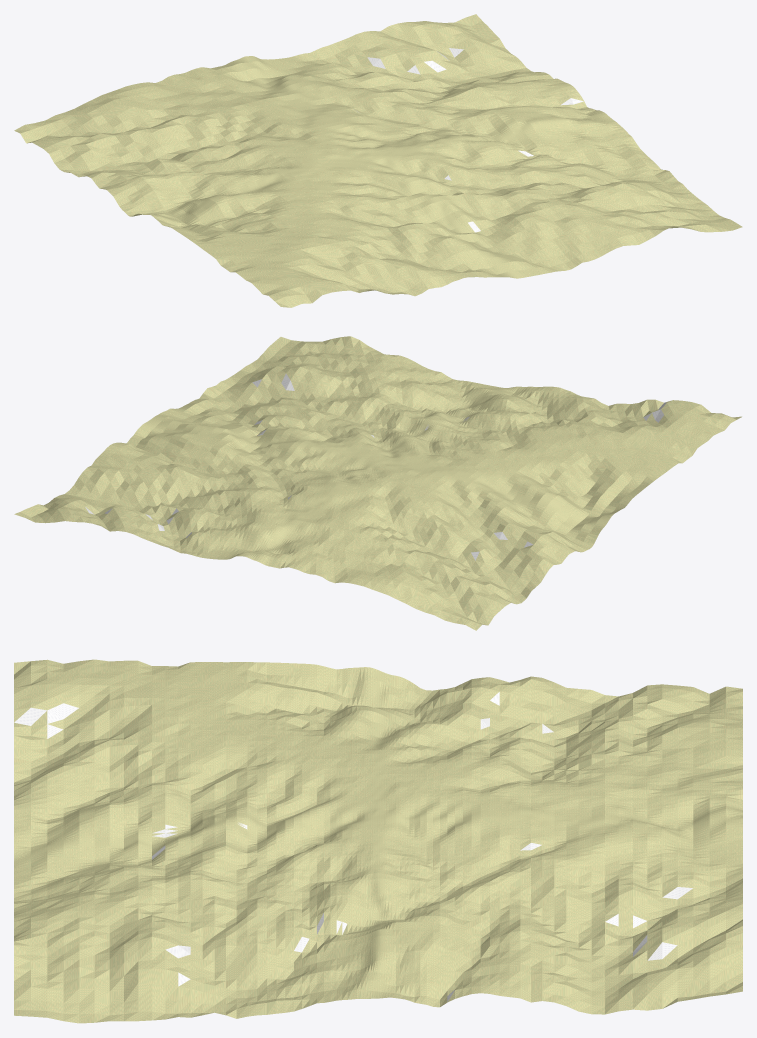
The model's file is terreno_canolo.obj.
3 views of the same model, one above another, from view 1: azimuth 30°, elevation 25°; view 2: azimuth 150°, elevation 25°; view 3: azimuth 270°, elevation 25° (orthographic). The views are drawn at different scales.
Visible parts, largest first — view 1: erba_003, erba_001, erba_000, erba_002, roccia_004; view 2: erba_001, erba_003, erba_000, erba_002, roccia_004; view 3: erba_003, erba_001, erba_000, erba_002, roccia_004.
Part boxes in pixels (x1,y1,x2,y2): erba_003: [20, 17, 742, 303]; erba_001: [14, 21, 735, 307]; erba_000: [14, 21, 742, 307]; erba_002: [20, 14, 730, 303]; roccia_004: [357, 48, 583, 232]; erba_001: [27, 336, 736, 630]; erba_003: [20, 337, 717, 625]; erba_000: [31, 337, 741, 630]; erba_002: [14, 336, 730, 624]; roccia_004: [85, 373, 666, 560]; erba_003: [14, 659, 742, 1022]; erba_001: [14, 659, 742, 1023]; erba_000: [14, 660, 742, 1020]; erba_002: [14, 660, 742, 1023]; roccia_004: [14, 692, 692, 1001].
Size of the model in its own units: 10000 by 889 by 10000.
Materials: 5 (5 with a texture image).
